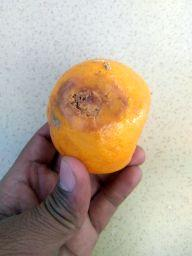Unripe: (50, 59, 152, 177)
